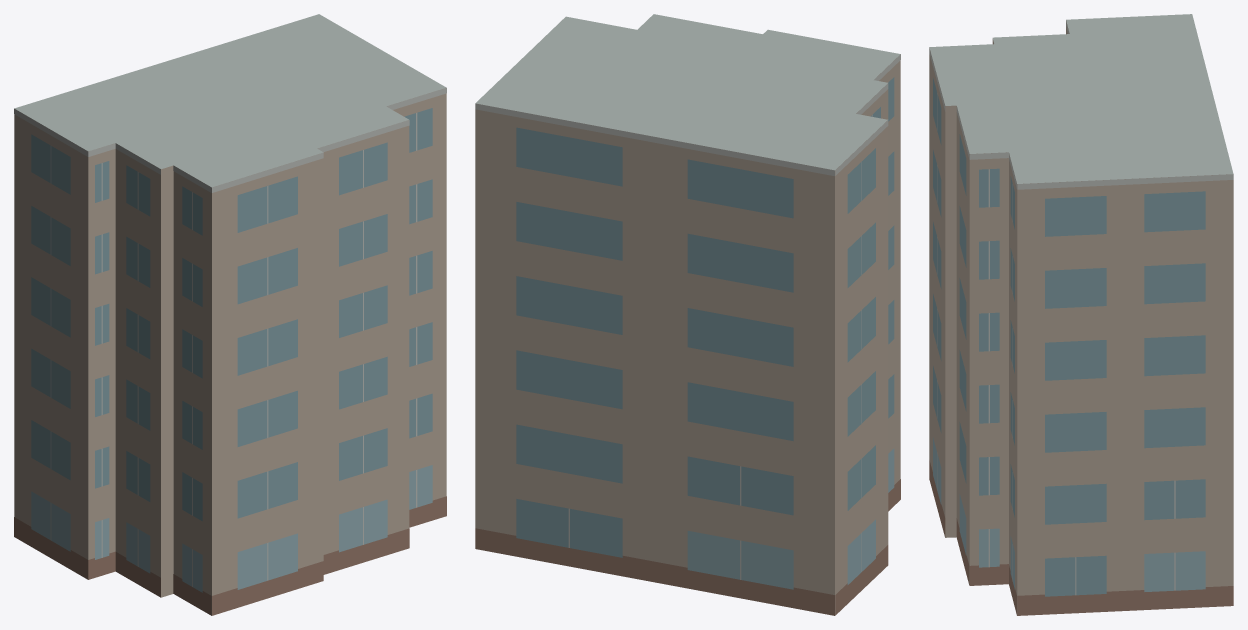
Rendered from survey-upis-33017881.glb.
The picture shows the model from 3 angles, left to right: view 1: azimuth 30°, elevation 25°; view 2: azimuth 150°, elevation 25°; view 3: azimuth 270°, elevation 25°; orthographic projection. The views are drawn at different scales.
Visible parts, largest first — view 1: survey-upis-33017881.tmp; view 2: survey-upis-33017881.tmp; view 3: survey-upis-33017881.tmp.
Part boxes in pixels (left/top/right/bottom): survey-upis-33017881.tmp: left=14, top=14, right=446, bottom=615; survey-upis-33017881.tmp: left=475, top=14, right=900, bottom=615; survey-upis-33017881.tmp: left=929, top=14, right=1233, bottom=615.
Bounding box in the file's own units: 15.46 × 18.3 × 11.69.
